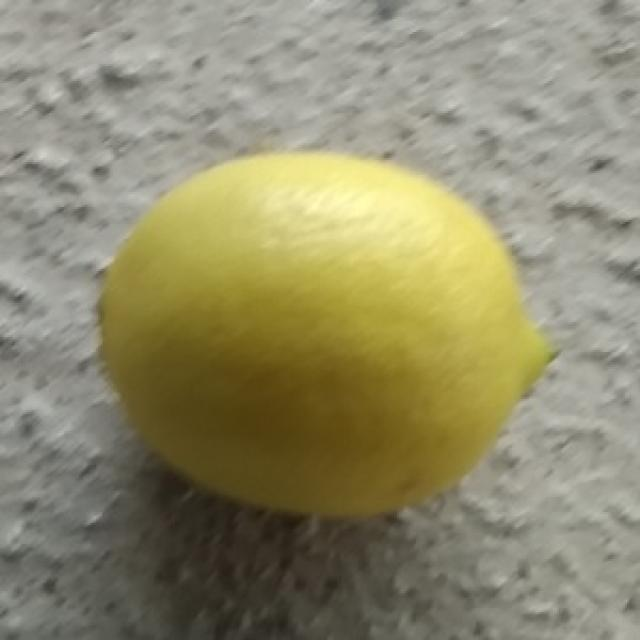Lemon: (100, 149, 564, 523)
